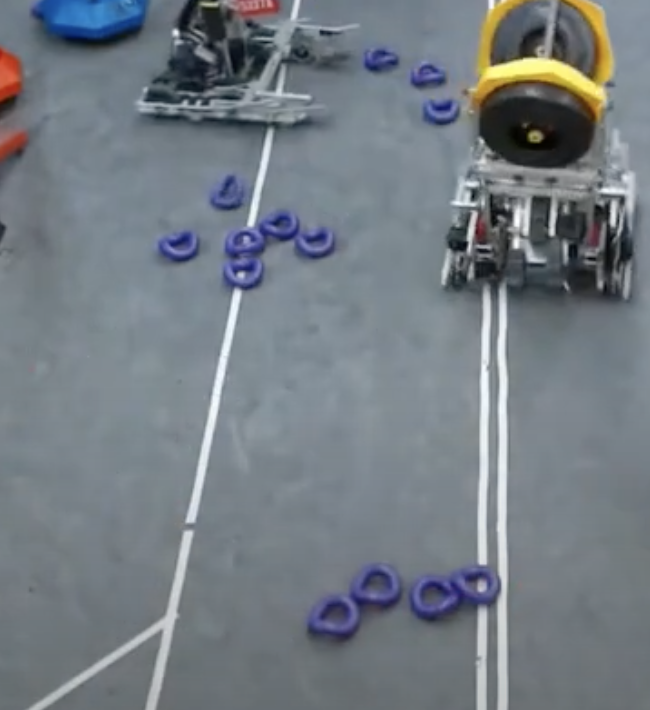ring: (411, 575, 460, 622), (309, 594, 360, 637), (350, 563, 400, 606), (453, 566, 502, 604), (159, 228, 200, 260), (211, 173, 245, 209), (224, 257, 262, 288), (261, 210, 299, 240), (225, 227, 265, 255), (296, 227, 334, 255), (425, 97, 460, 124), (411, 60, 445, 87), (365, 46, 400, 71)
